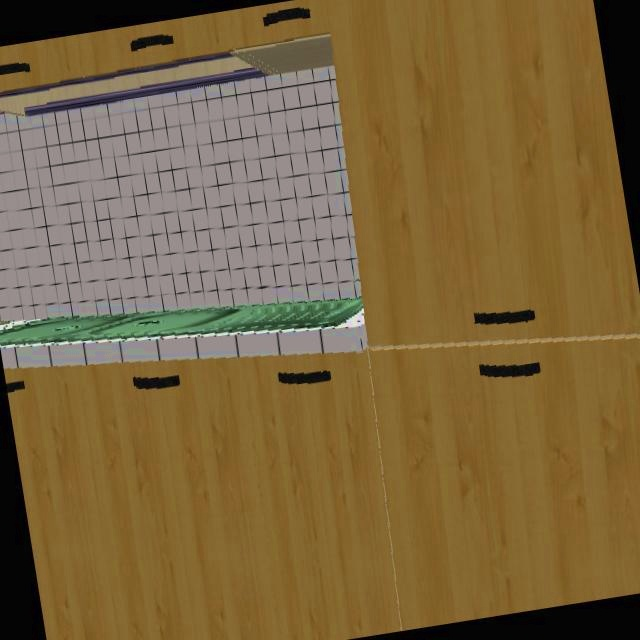countertop: (0, 298, 367, 370)
sink: (0, 299, 361, 349)
